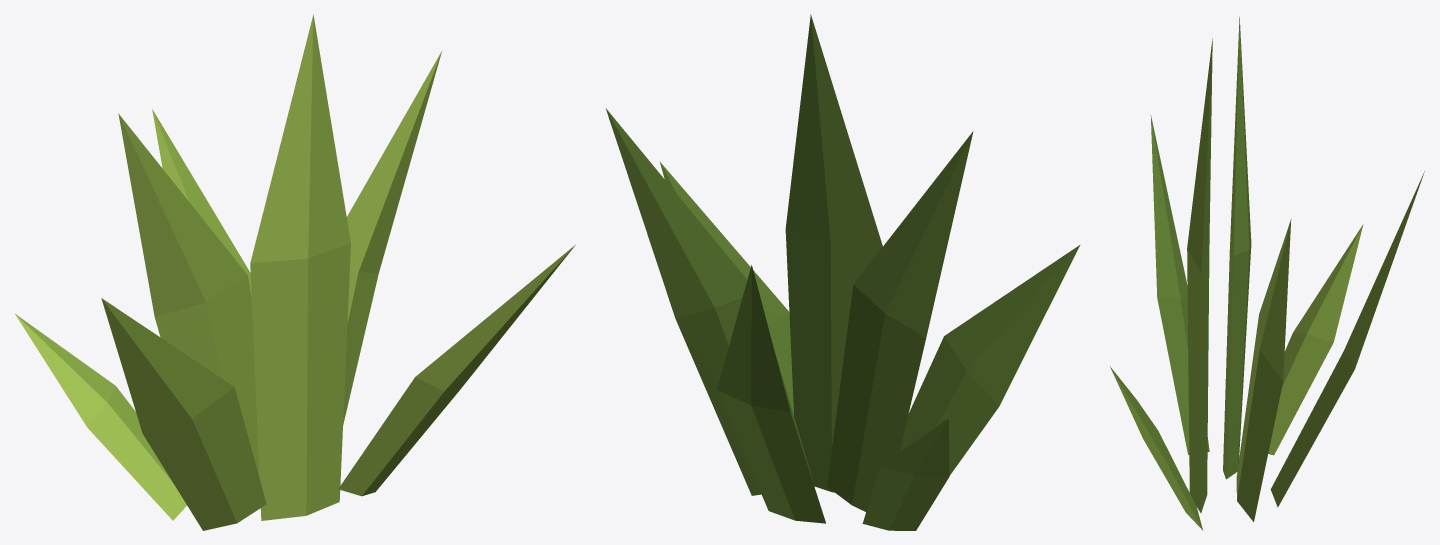
File: FMS_Grass_Tuft_S.fbx
3 views of the same model, side by side, from view 1: azimuth 30°, elevation 25°; view 2: azimuth 150°, elevation 25°; view 3: azimuth 270°, elevation 25° (orthographic). The views are drawn at different scales.
Visible parts, largest first — view 1: FMS_Grass_Tuft_S; view 2: FMS_Grass_Tuft_S; view 3: FMS_Grass_Tuft_S.
Boxes of the visible parts, <box> form: FMS_Grass_Tuft_S: <box>15,14,575,530</box>; FMS_Grass_Tuft_S: <box>605,14,1080,530</box>; FMS_Grass_Tuft_S: <box>1110,17,1424,530</box>.
Size of the model in its own units: 0.243 by 0.25 by 0.153.
